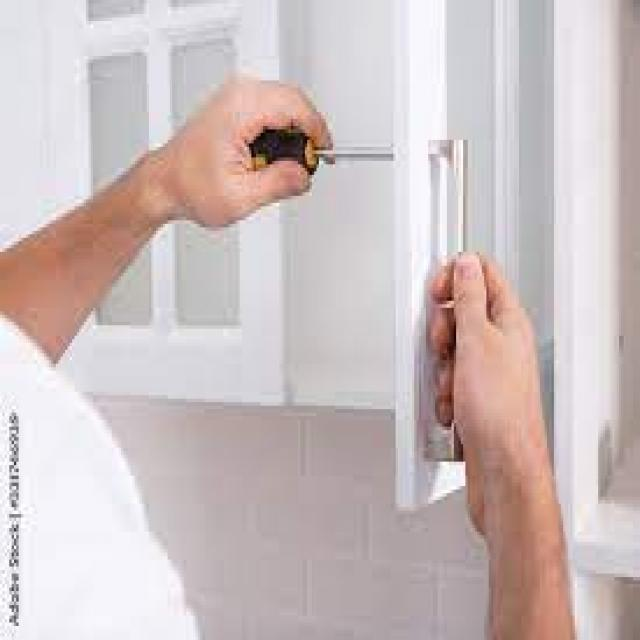screwdriver: (241, 129, 453, 182)
